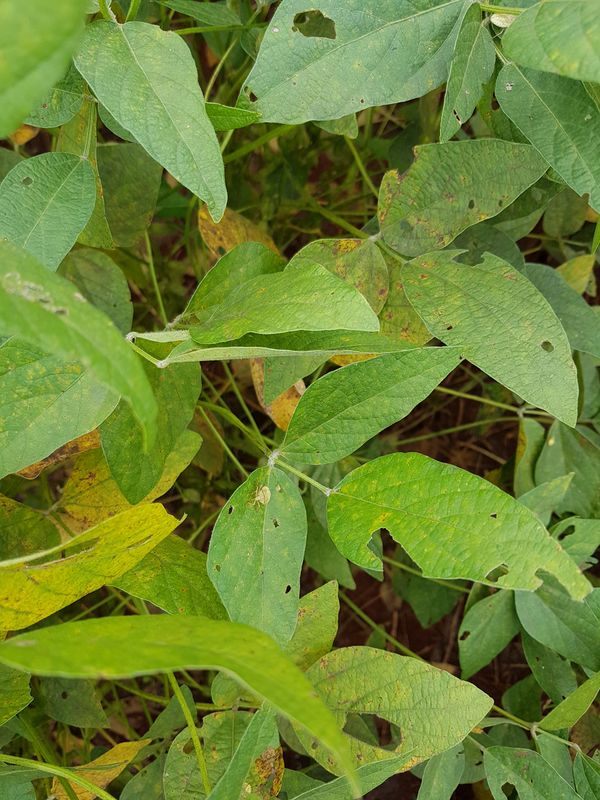Euschistus_heros_ninfa: (246, 481, 275, 514)
